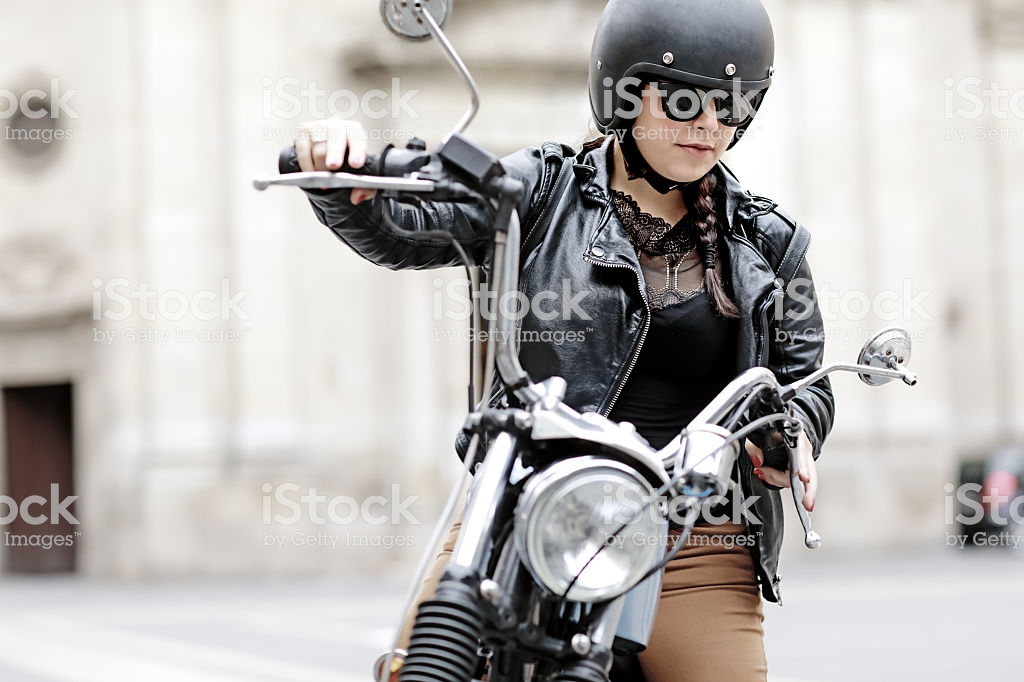helmet: (587, 7, 783, 128)
